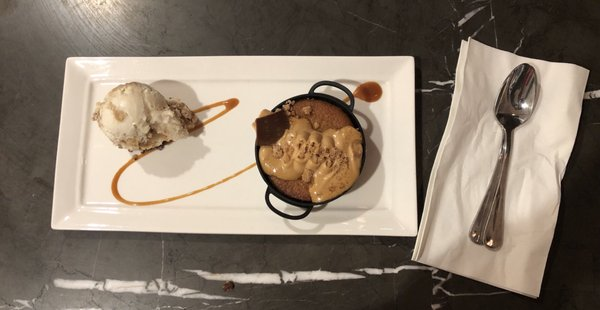salad: (473, 64, 541, 249)
